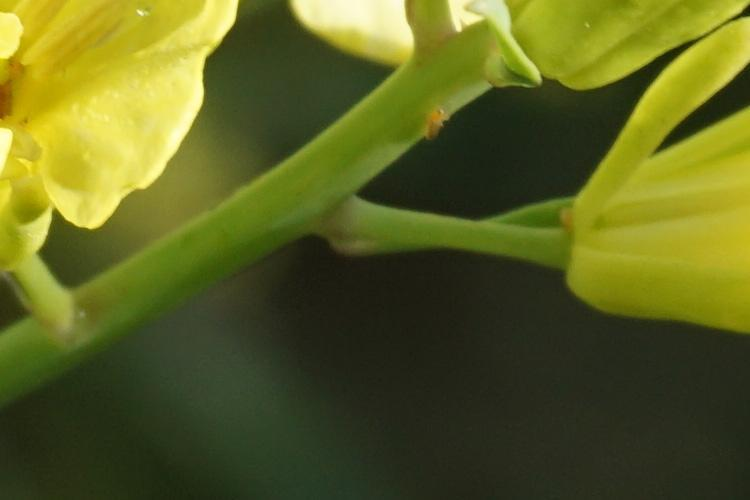yellow: (5, 4, 220, 231), (579, 115, 749, 336), (529, 22, 739, 89)
